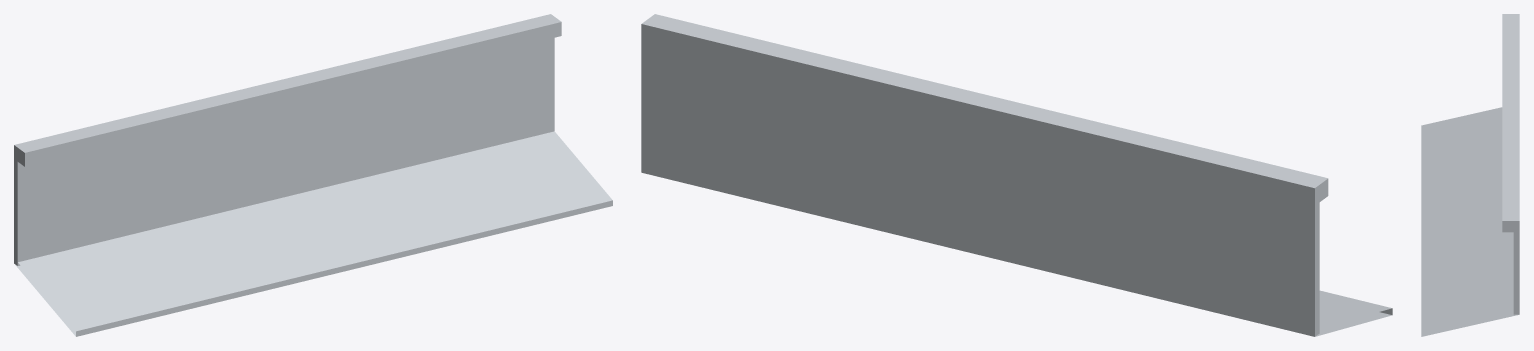
The model's file is telhado_rufo_i25_1m.glb.
3 renders of one model, left to right at view 1: azimuth 30°, elevation 25°; view 2: azimuth 150°, elevation 25°; view 3: azimuth 270°, elevation 25°, orthographic. The views are drawn at different scales.
Parts seen in each view (by area): view 1: telhado_rufo_i25_1m; view 2: telhado_rufo_i25_1m; view 3: telhado_rufo_i25_1m.
Part boxes in pixels (x1,y1,x2,y2): telhado_rufo_i25_1m: [14, 14, 612, 336]; telhado_rufo_i25_1m: [641, 14, 1392, 336]; telhado_rufo_i25_1m: [1421, 14, 1519, 336].
Size of the model in its own units: 1 by 0.261 by 0.2.
1 material, 1 textured.
